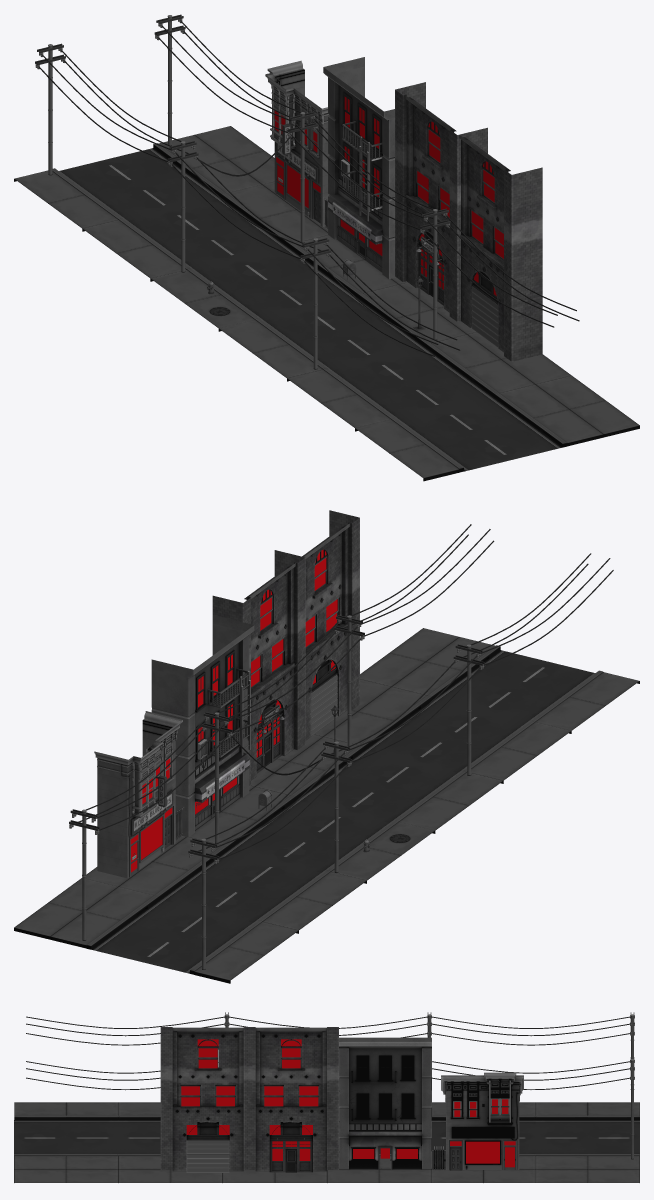
Rendered from street_import_9_29_20.fbx.
3 renders of one model, top to bottom at view 1: azimuth 30°, elevation 25°; view 2: azimuth 150°, elevation 25°; view 3: azimuth 270°, elevation 25°, orthographic. The views are drawn at different scales.
Parts seen in each view (by area): view 1: pause_sch, pause_piz, pause_street_set01_road.001, pause_street_set01_road, pause_street_set01_road.005, pause_street_set01_road.003, pause_street_set01_road.002, pause_street_set01_road.004, pause_rb, pause_street_set01_sidewalk.016, pause_street_set01_sidewalk.010, pause_street_set01_sidewalk.007 (+13 smaller); view 2: pause_sch, pause_piz, pause_rb, pause_street_set01_road.005, pause_street_set01_road.001, pause_street_set01_road.002, pause_street_set01_road.004, pause_street_set01_road, pause_street_set01_road.003, pause_street_set01_sidewalk.009, pause_street_set01_sidewalk.015, pause_street_set01_sidewalk.010 (+13 smaller); view 3: pause_sch, pause_piz, pause_rb, pause_street_set01_road.001, pause_street_set01_road.005, pause_street_set01_sidewalk.007, pause_street_set01_sidewalk.010, pause_street_set01_sidewalk.015, pause_street_set01_sidewalk.016, pause_street_set01_road, pause_street_set01_sidewalk.005, pause_street_set01_sidewalk.009 (+25 smaller).
Part boxes in pixels (left/top/right/bottom): pause_sch: left=395, top=82, right=542, bottom=361; pause_piz: left=323, top=57, right=395, bottom=279; pause_street_set01_road.001: left=400, top=397, right=562, bottom=471; pause_street_set01_road: left=332, top=347, right=493, bottom=420; pause_street_set01_road.005: left=59, top=148, right=221, bottom=220; pause_street_set01_road.003: left=195, top=248, right=357, bottom=320; pause_street_set01_road.002: left=264, top=298, right=425, bottom=370; pause_street_set01_road.004: left=127, top=198, right=289, bottom=270; pause_rb: left=265, top=60, right=329, bottom=226; pause_street_set01_sidewalk.016: left=535, top=375, right=639, bottom=437; pause_street_set01_sidewalk.010: left=355, top=419, right=459, bottom=481; pause_street_set01_sidewalk.007: left=499, top=384, right=603, bottom=446; pause_sch: left=212, top=510, right=359, bottom=785; pause_piz: left=151, top=615, right=254, bottom=837; pause_rb: left=94, top=711, right=182, bottom=878; pause_street_set01_road.005: left=91, top=900, right=253, bottom=973; pause_street_set01_road.001: left=433, top=650, right=594, bottom=722; pause_street_set01_road.002: left=296, top=750, right=458, bottom=822; pause_street_set01_road.004: left=160, top=850, right=321, bottom=922; pause_street_set01_road: left=364, top=700, right=526, bottom=772; pause_street_set01_road.003: left=228, top=800, right=390, bottom=872; pause_street_set01_sidewalk.009: left=194, top=922, right=298, bottom=983; pause_street_set01_sidewalk.015: left=14, top=878, right=117, bottom=939; pause_street_set01_sidewalk.010: left=535, top=672, right=639, bottom=733; pause_sch: left=160, top=1027, right=338, bottom=1172; pause_piz: left=339, top=1037, right=431, bottom=1169; pause_rb: left=441, top=1072, right=523, bottom=1170; pause_street_set01_road.001: left=14, top=1120, right=118, bottom=1153; pause_street_set01_road.005: left=535, top=1120, right=639, bottom=1153; pause_street_set01_sidewalk.007: left=14, top=1156, right=118, bottom=1169; pause_street_set01_sidewalk.010: left=14, top=1102, right=118, bottom=1115; pause_street_set01_sidewalk.015: left=535, top=1169, right=639, bottom=1182; pause_street_set01_sidewalk.016: left=14, top=1169, right=118, bottom=1182; pause_street_set01_road: left=118, top=1120, right=160, bottom=1153; pause_street_set01_sidewalk.005: left=535, top=1156, right=639, bottom=1169; pause_street_set01_sidewalk.009: left=535, top=1102, right=639, bottom=1115.
Size of the model in its own units: 16.04 by 13.68 by 52.5.
